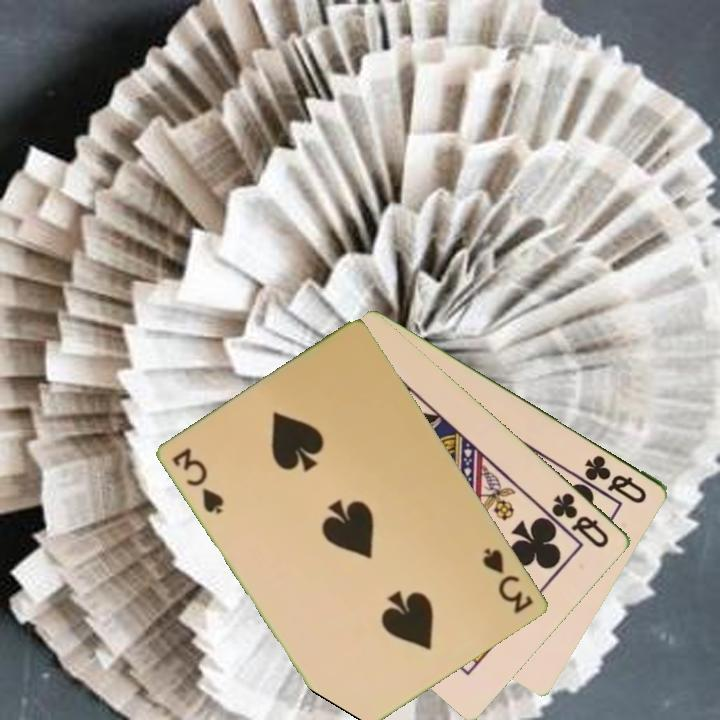3s: (169, 444, 228, 517), (479, 544, 537, 617)
Qc: (548, 488, 613, 551), (581, 451, 651, 507)
